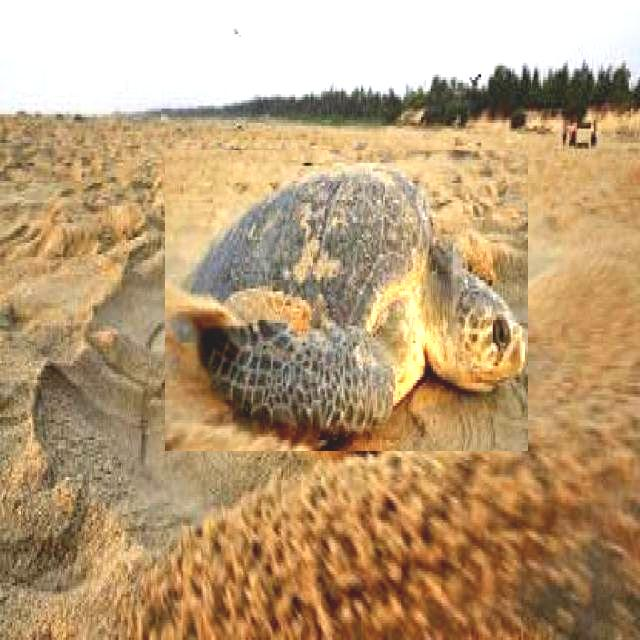Sea turtle: (166, 150, 530, 451)
